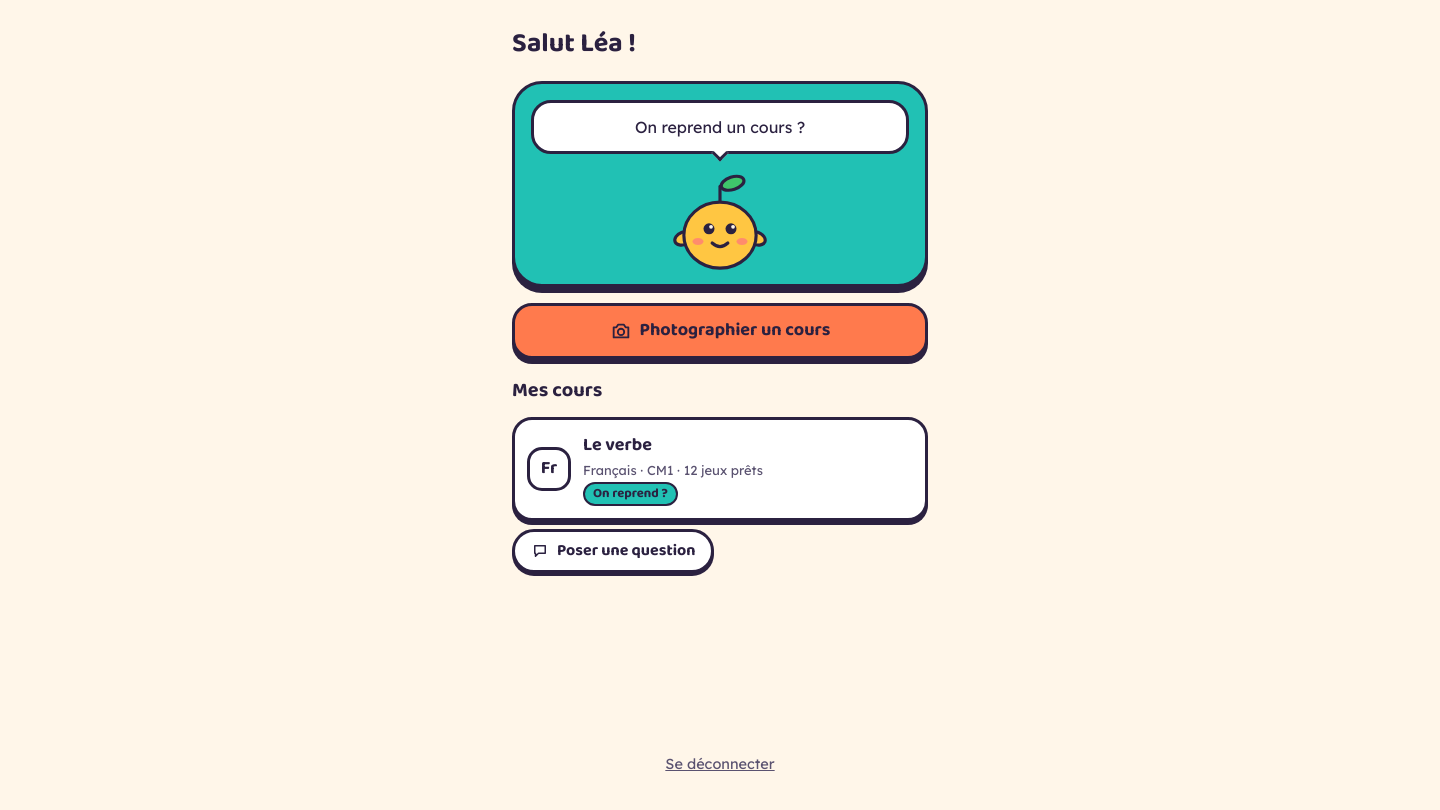
Scenario: MainScreens: the Jouer tab › a card with games ready opens Jouer, with the tab bar
Click the button "Fr Le verbe Français · CM1 · 12 jeux prêts On reprend ?" at (720, 468), box [512, 416, 928, 520]
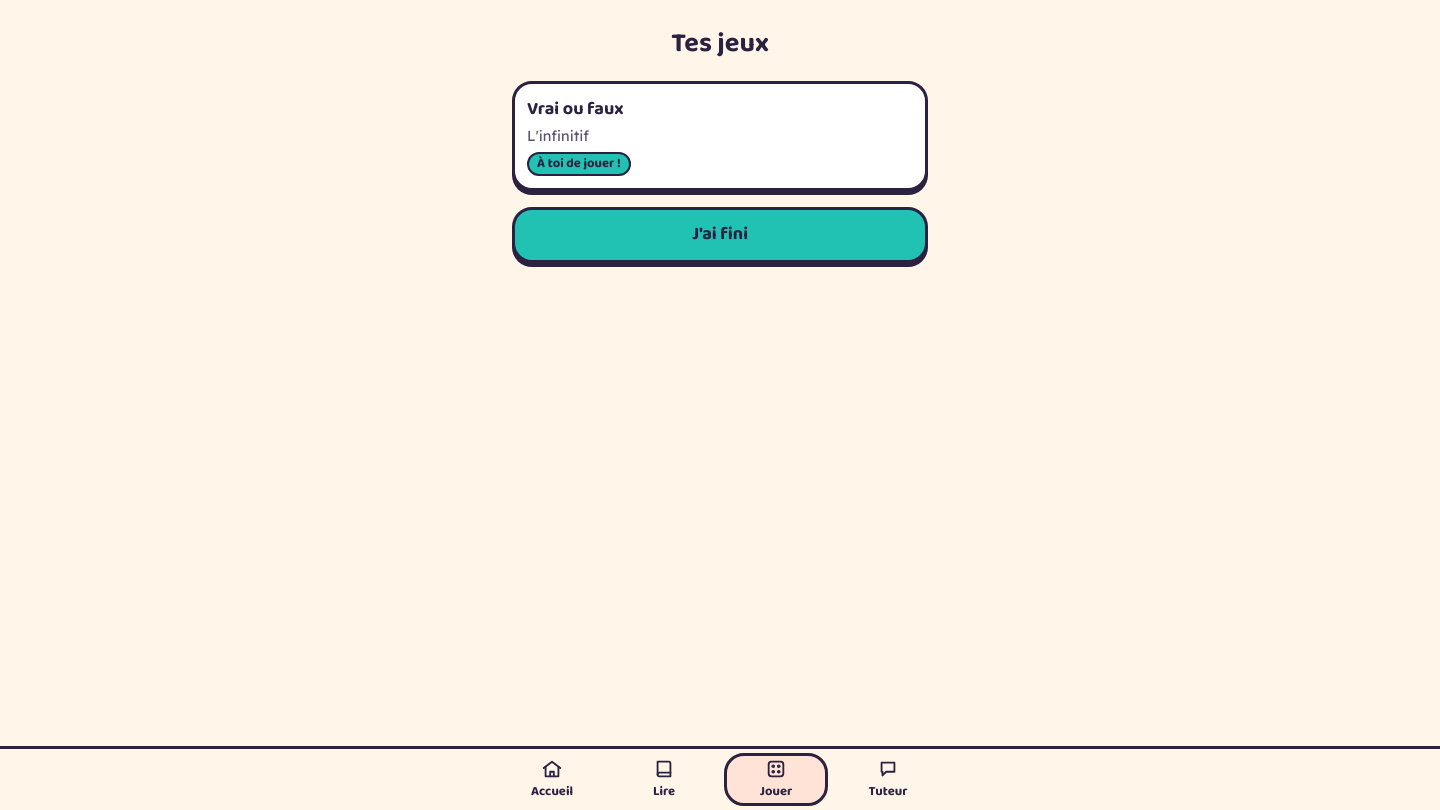
expect the heading "Tes jeux" is shown: met, box [671, 24, 769, 64]
